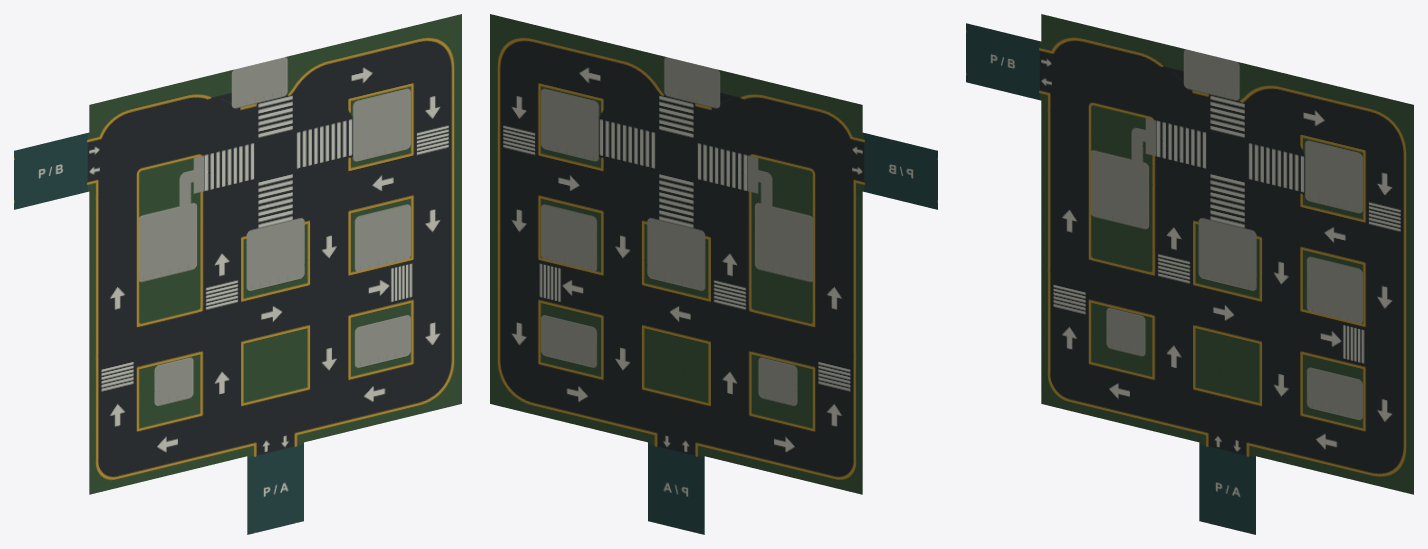
File: ros_sandbox_ground.obj
3 views of the same model, side by side, from view 1: azimuth 30°, elevation 25°; view 2: azimuth 150°, elevation 25°; view 3: azimuth 330°, elevation 25° (orthographic).
Parts seen in each view (by area): view 1: sandbox_mesh_007, sandbox_mesh_044; view 2: sandbox_mesh_007, sandbox_mesh_044; view 3: sandbox_mesh_007, sandbox_mesh_044.
Part boxes in pixels (x1,y1,x2,y2): sandbox_mesh_007: [14, 14, 461, 534]; sandbox_mesh_044: [252, 224, 298, 284]; sandbox_mesh_007: [490, 14, 937, 534]; sandbox_mesh_044: [653, 224, 699, 284]; sandbox_mesh_007: [966, 14, 1413, 534]; sandbox_mesh_044: [1204, 224, 1250, 284].
Size of the model in its own units: 4.76 by 4.76 by 0.
Materials: 1 (1 with a texture image).
